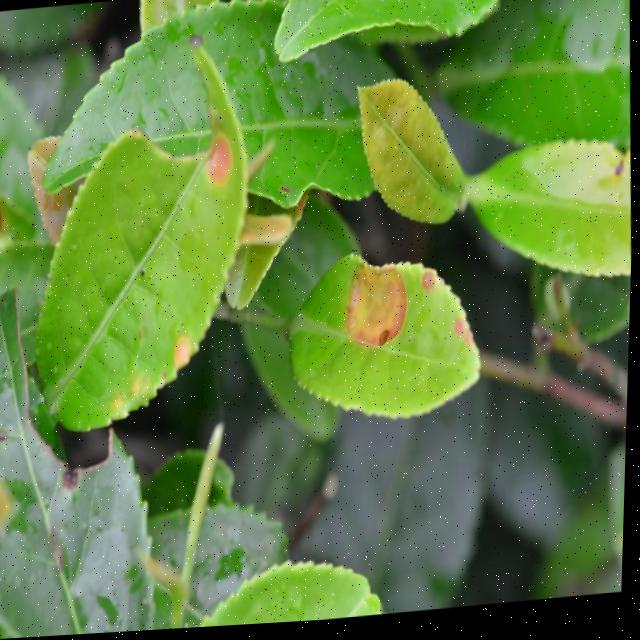Tea cake: (345, 263, 415, 349), (201, 128, 240, 199)
